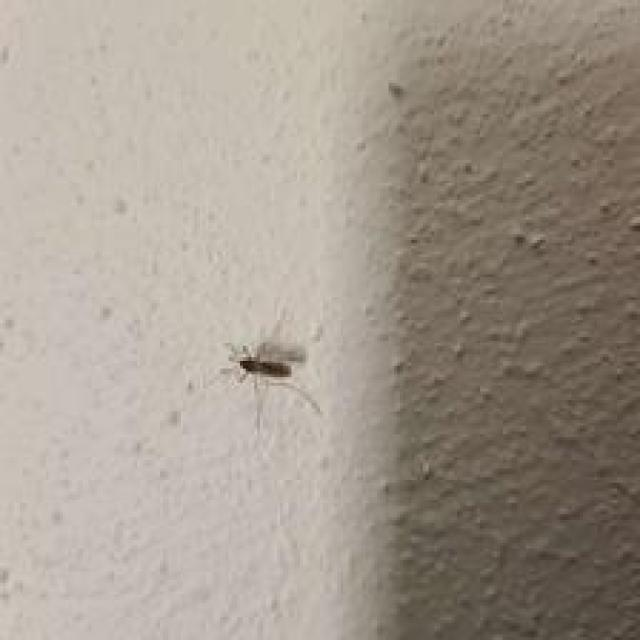Culex: (217, 338, 323, 433)
